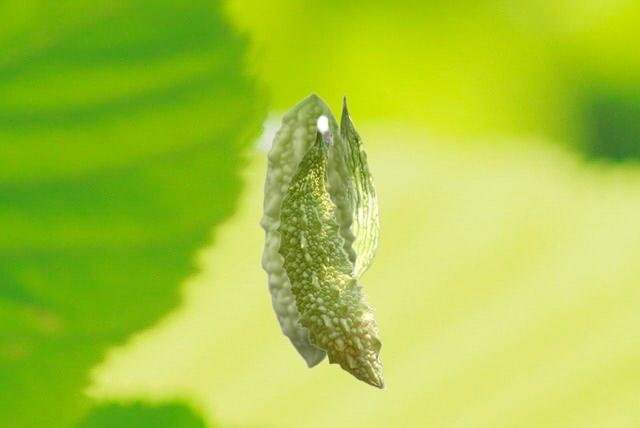ampalaya: (273, 112, 387, 392), (256, 89, 359, 371), (338, 93, 382, 280)
